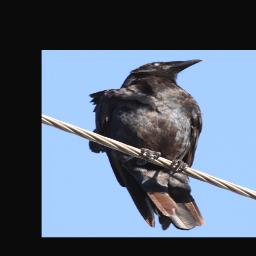Crow: (88, 57, 207, 231)
